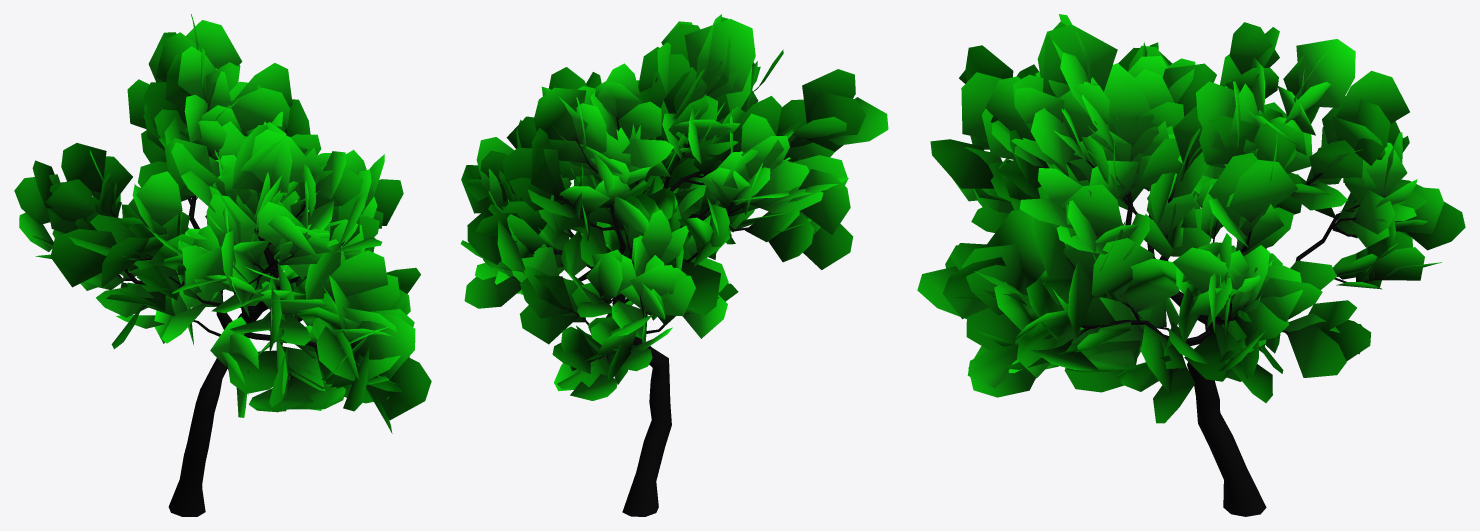
File: Oak_Large_1_LOD_2.fbx
The picture shows the model from 3 angles, left to right: view 1: azimuth 30°, elevation 25°; view 2: azimuth 150°, elevation 25°; view 3: azimuth 270°, elevation 25°; orthographic projection. The views are drawn at different scales.
Parts seen in each view (by area): view 1: Oak_Large_1_LOD_2; view 2: Oak_Large_1_LOD_2; view 3: Oak_Large_1_LOD_2.
Boxes of the visible parts, box(x1,y1,x2,y2) form: Oak_Large_1_LOD_2: box(14, 14, 431, 516); Oak_Large_1_LOD_2: box(460, 14, 888, 516); Oak_Large_1_LOD_2: box(917, 14, 1465, 516).
Bounding box in the file's own units: 24.83 × 28.64 × 28.74.
